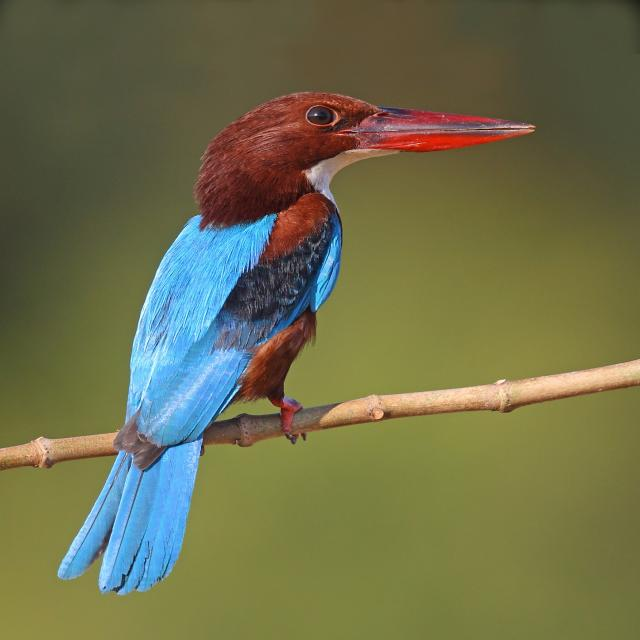kingfisher: (48, 56, 552, 609)
